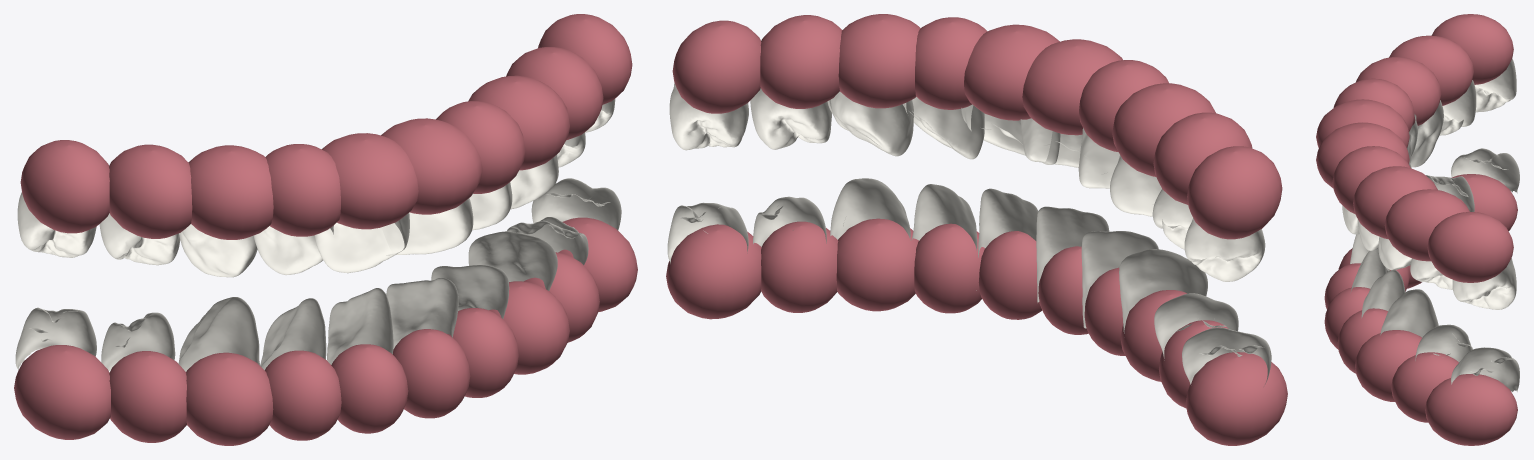
Rendered from gc-anatomical-dental-arch.glb.
3 renders of one model, left to right at view 1: azimuth 30°, elevation 25°; view 2: azimuth 150°, elevation 25°; view 3: azimuth 270°, elevation 25°, orthographic. The views are drawn at different scales.
Parts seen in each view (by area): view 1: gingiva_45, gingiva_13, gingiva_43, gingiva_15, gingiva_14, gingiva_11, gingiva_44, gingiva_21, gingiva_12, gingiva_42, gingiva_41, gingiva_31 (+27 smaller); view 2: gingiva_45, gingiva_35, gingiva_15, gingiva_25, gingiva_23, gingiva_24, gingiva_33, gingiva_34, gingiva_21, gingiva_11, gingiva_32, gingiva_13 (+28 smaller); view 3: gingiva_35, gingiva_25, gingiva_24, gingiva_15, gingiva_23, gingiva_14, gingiva_33, gingiva_34, gingiva_13, gingiva_21, gingiva_22, gingiva_11 (+22 smaller).
Part boxes in pixels (bbox=[...]): gingiva_45: bbox=[14, 345, 110, 439]; gingiva_13: bbox=[188, 145, 273, 239]; gingiva_43: bbox=[186, 352, 273, 445]; gingiva_15: bbox=[20, 140, 109, 233]; gingiva_14: bbox=[109, 144, 192, 238]; gingiva_11: bbox=[321, 133, 418, 229]; gingiva_44: bbox=[109, 351, 186, 442]; gingiva_21: bbox=[381, 118, 482, 214]; gingiva_12: bbox=[265, 144, 340, 236]; gingiva_42: bbox=[265, 350, 341, 440]; gingiva_41: bbox=[331, 344, 408, 433]; gingiva_31: bbox=[393, 329, 470, 418]; gingiva_45: bbox=[1185, 352, 1287, 445]; gingiva_35: bbox=[666, 224, 761, 319]; gingiva_15: bbox=[1187, 146, 1282, 239]; gingiva_25: bbox=[672, 20, 761, 113]; gingiva_23: bbox=[838, 14, 920, 108]; gingiva_24: bbox=[760, 15, 842, 108]; gingiva_33: bbox=[836, 218, 918, 311]; gingiva_34: bbox=[761, 221, 838, 312]; gingiva_21: bbox=[964, 24, 1059, 120]; gingiva_11: bbox=[1022, 39, 1122, 135]; gingiva_32: bbox=[914, 223, 984, 313]; gingiva_13: bbox=[1112, 83, 1215, 176]; gingiva_35: bbox=[1425, 374, 1517, 445]; gingiva_25: bbox=[1427, 212, 1513, 282]; gingiva_24: bbox=[1384, 189, 1469, 261]; gingiva_15: bbox=[1431, 14, 1513, 84]; gingiva_23: bbox=[1353, 166, 1437, 239]; gingiva_14: bbox=[1389, 35, 1473, 105]; gingiva_33: bbox=[1355, 330, 1421, 401]; gingiva_34: bbox=[1391, 352, 1458, 422]; gingiva_13: bbox=[1355, 57, 1441, 125]; gingiva_21: bbox=[1316, 122, 1409, 188]; gingiva_22: bbox=[1332, 146, 1410, 214]; gingiva_11: bbox=[1316, 99, 1409, 147].
Size of what is drawn, in the model's own units: 53.01 by 24.1 by 19.69.
